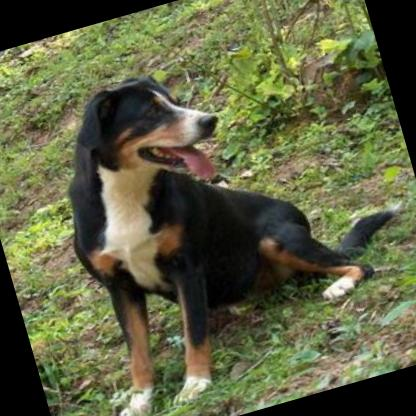EntleBucher: (27, 16, 416, 416)
